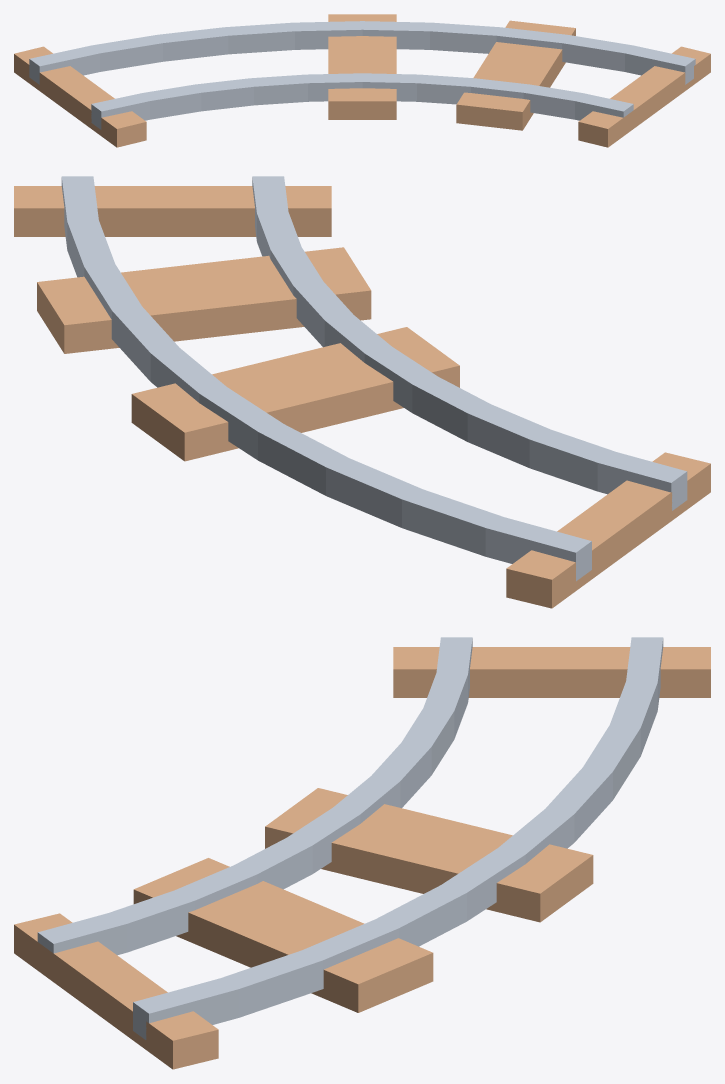
Rendered from curved_1-2-3-_.dae.
The picture shows the model from 3 angles, top to bottom: view 1: azimuth 30°, elevation 25°; view 2: azimuth 150°, elevation 25°; view 3: azimuth 270°, elevation 25°; orthographic projection. The views are drawn at different scales.
Parts seen in each view (by area): view 1: Rails Curved, Beats Curved 01; view 2: Beats Curved 01, Rails Curved; view 3: Beats Curved 01, Rails Curved.
Part boxes in pixels (x1=…): Rails Curved: x1=29, y1=21, x2=695, y2=129; Beats Curved 01: x1=14, y1=14, x2=710, y2=147; Beats Curved 01: x1=14, y1=186, x2=710, y2=608; Rails Curved: x1=61, y1=176, x2=687, y2=581; Beats Curved 01: x1=14, y1=647, x2=710, y2=1069; Rails Curved: x1=37, y1=637, x2=663, y2=1039.
Size of the model in its own units: 0.8799 by 0.658 by 0.04.
